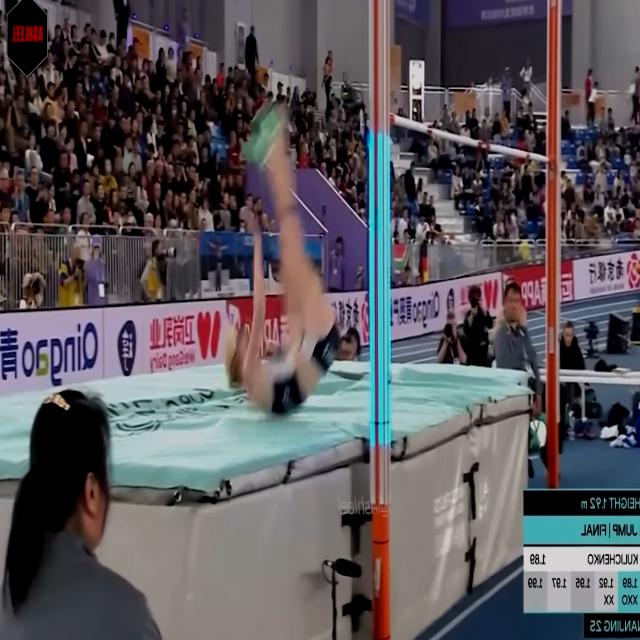land: (227, 100, 339, 416)
